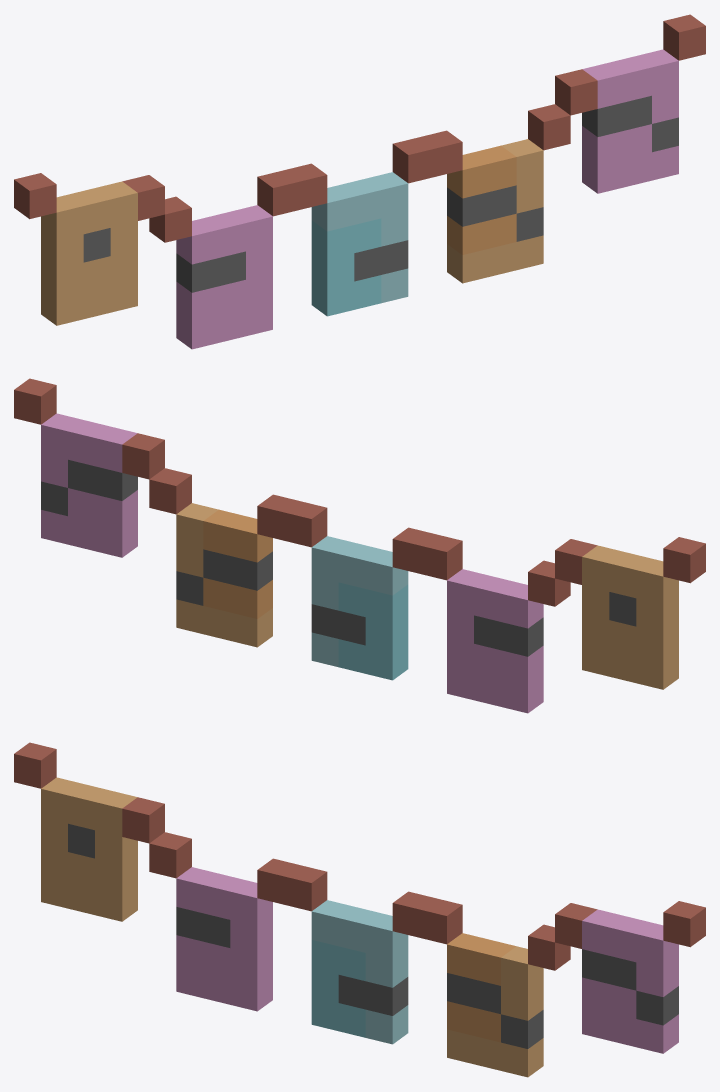
The model's file is Boat_Booth-18-PostIt_Orders.obj.
3 views of the same model, one above another, from view 1: azimuth 30°, elevation 25°; view 2: azimuth 150°, elevation 25°; view 3: azimuth 330°, elevation 25° (orthographic).
Visible parts, largest first — view 1: PostIt_Orders; view 2: PostIt_Orders; view 3: PostIt_Orders.
Part boxes in pixels (x1,y1,x2,y2): PostIt_Orders: [14, 14, 705, 349]; PostIt_Orders: [14, 378, 705, 713]; PostIt_Orders: [14, 742, 705, 1077].
Bounding box in the file's own units: 0.5 × 0.14 × 0.02.
Materials: 1 (1 with a texture image).
